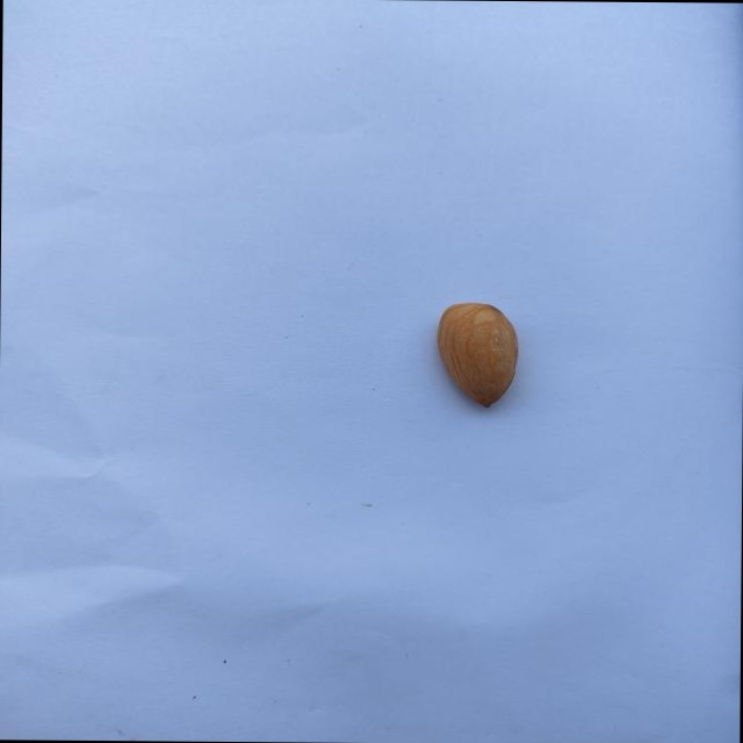grade2: (429, 299, 522, 411)
